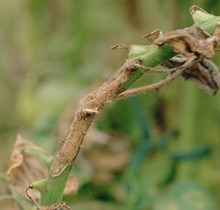damaged_tomato: (5, 6, 220, 208)
